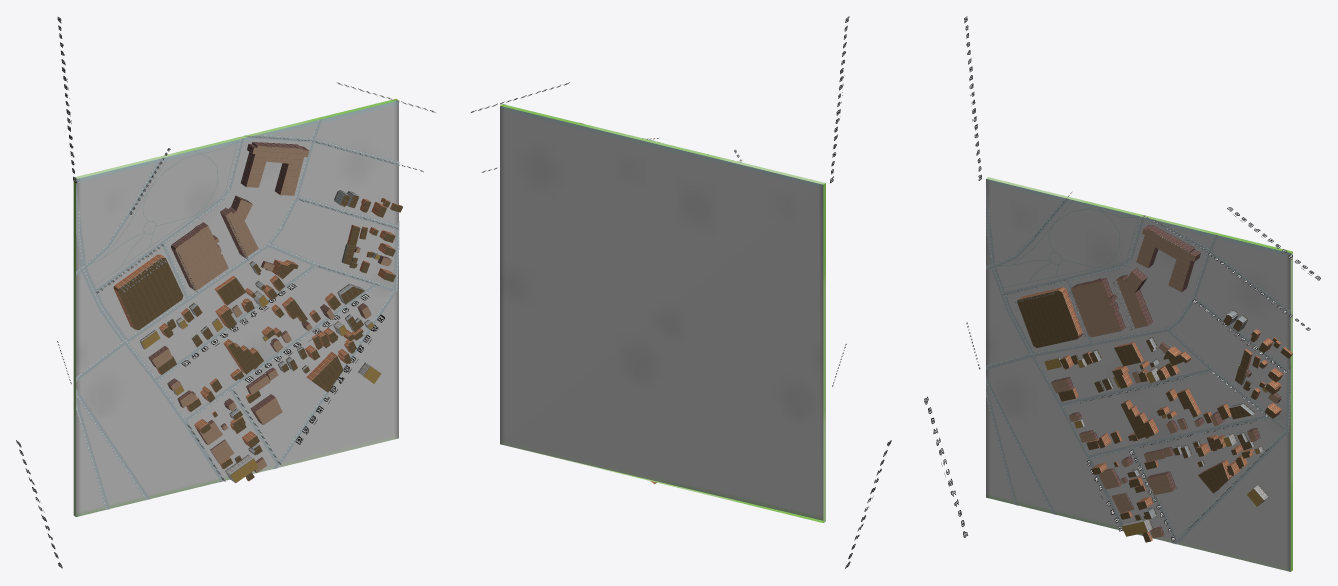
The picture shows the model from 3 angles, left to right: view 1: azimuth 30°, elevation 25°; view 2: azimuth 150°, elevation 25°; view 3: azimuth 330°, elevation 25°; orthographic projection. The views are drawn at different scales.
Visible parts, largest first — view 1: POLYGON, BUILDING, POLYLINE, FONT; view 2: POLYGON, FONT; view 3: POLYGON, BUILDING, POLYLINE, FONT.
Boxes of the visible parts, box(x1,y1,x2,y2) form: POLYGON: box(73, 98, 398, 516); BUILDING: box(113, 142, 402, 483); POLYLINE: box(76, 100, 399, 509); FONT: box(16, 17, 435, 568); POLYGON: box(500, 104, 825, 522); FONT: box(471, 16, 891, 568); POLYGON: box(986, 177, 1292, 571); BUILDING: box(1017, 225, 1292, 542); POLYLINE: box(986, 184, 1290, 544); FONT: box(924, 16, 1320, 541).
Bounding box in the file's own units: 794 × 1002 × 41.1.
Materials: 3 (3 with a texture image).
